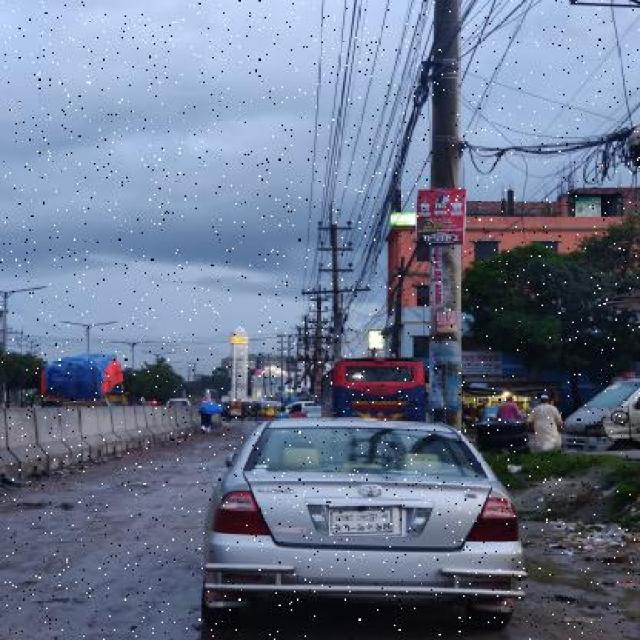numberplate: (329, 504, 402, 536)
